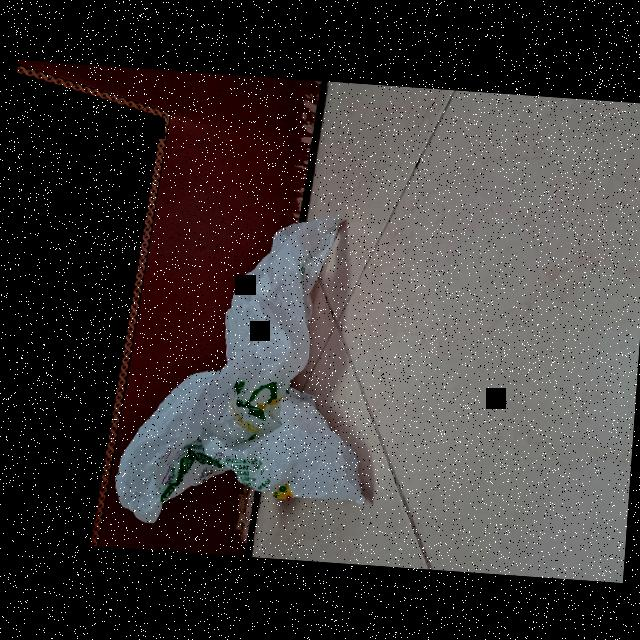plastic_bag: (112, 200, 386, 538)
